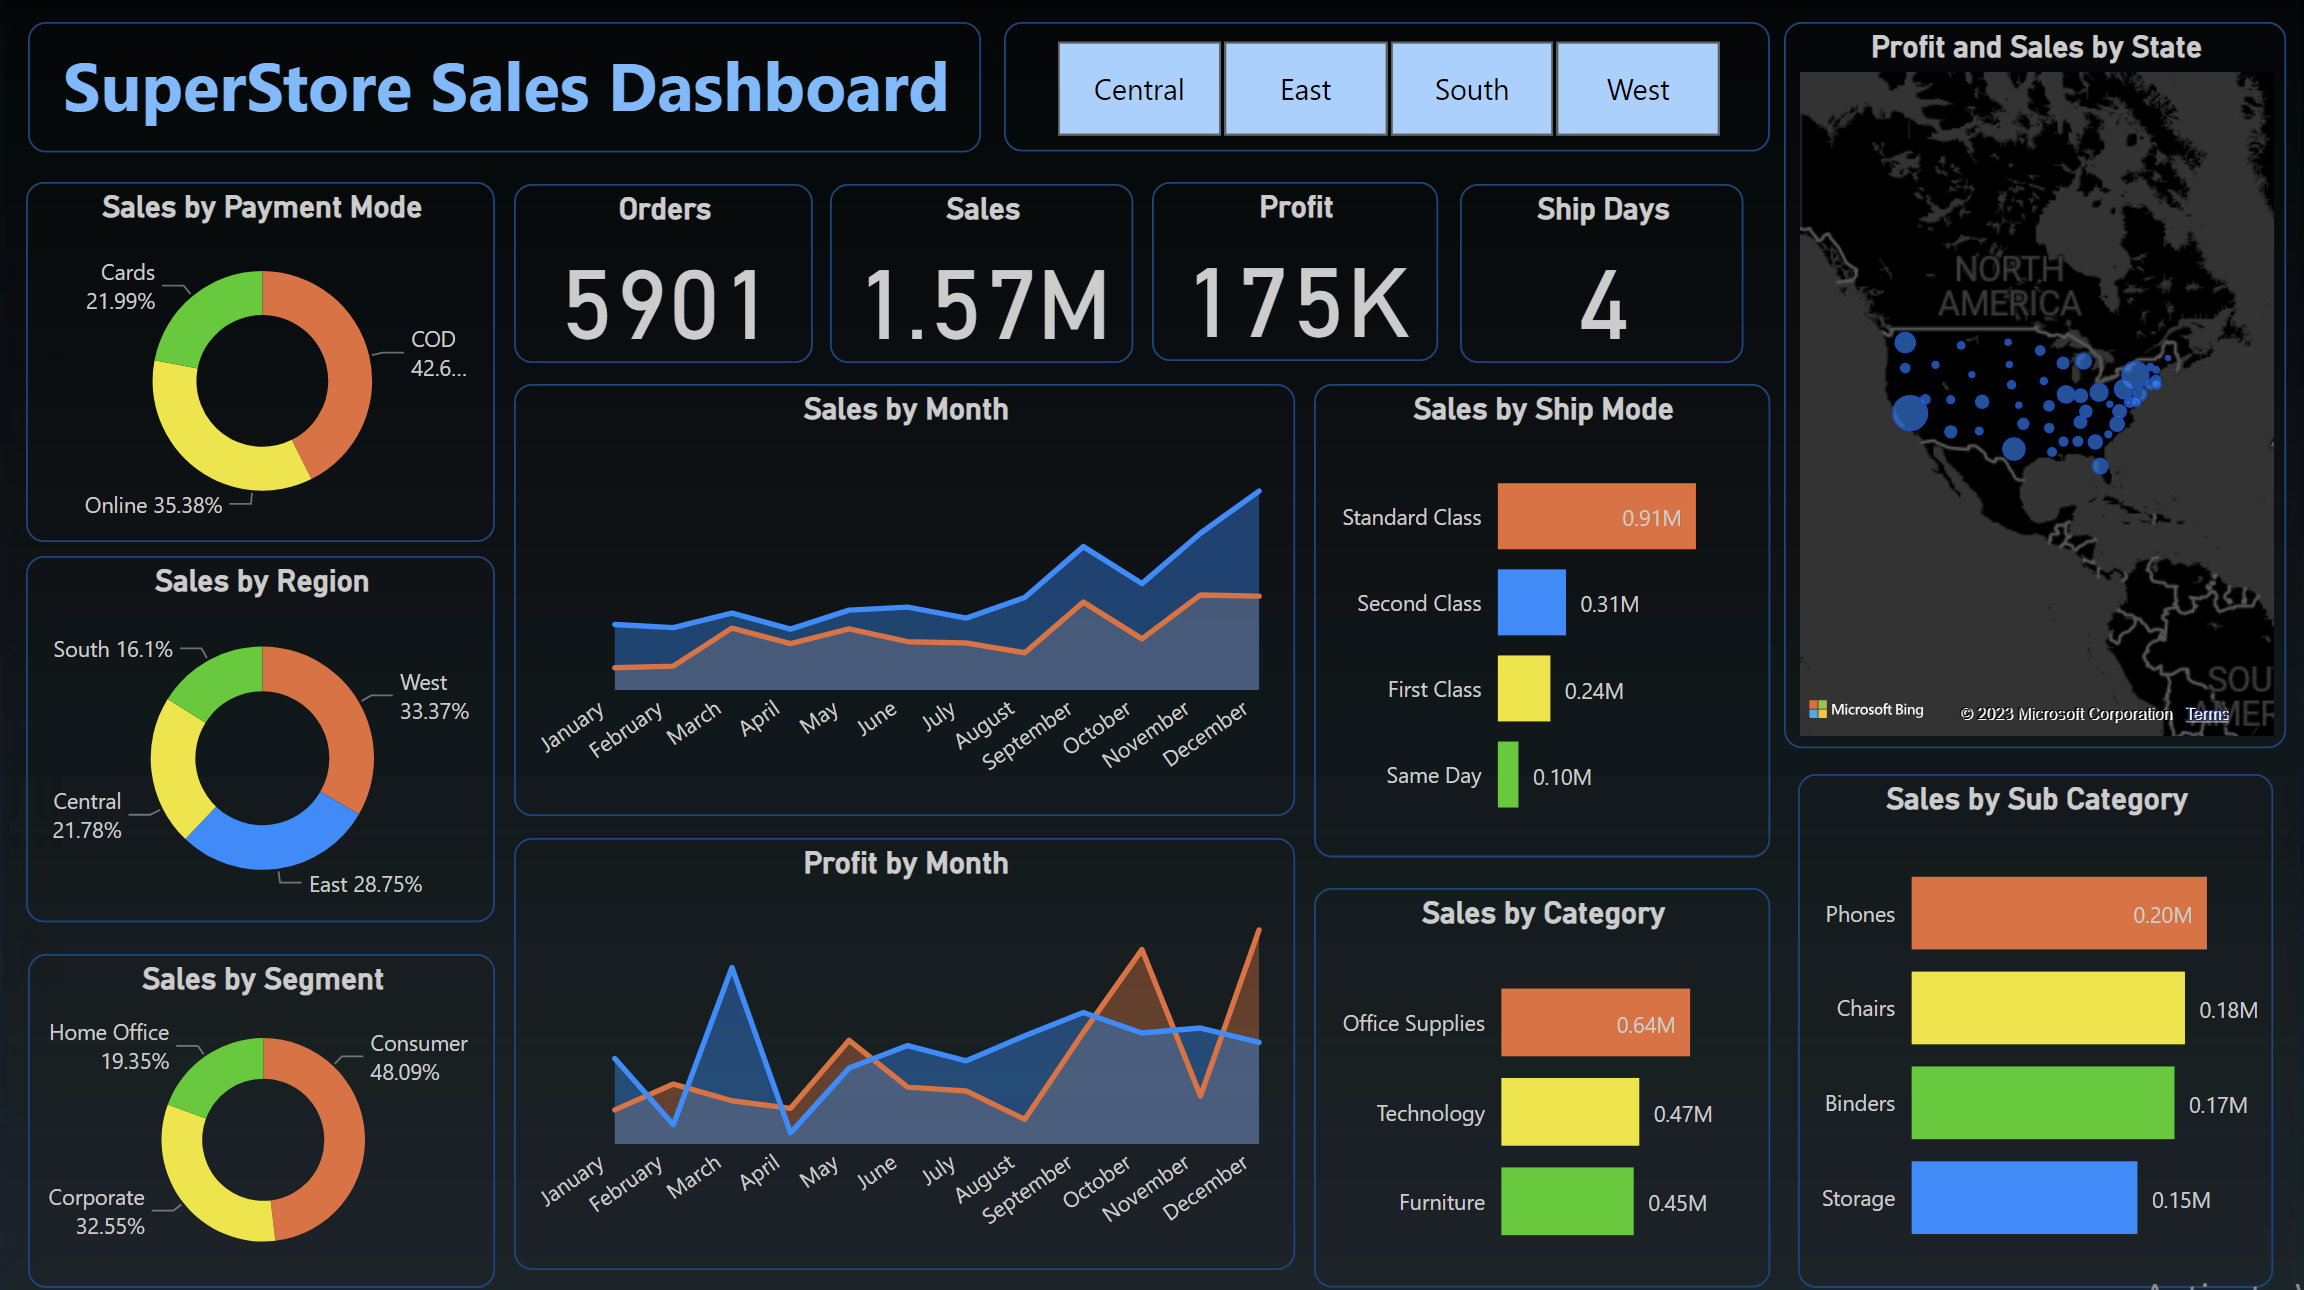

This screenshot's page, from the dashboard's own definition file:
{"tool":"powerbi","page":{"name":"Page 1","canvas":[1280,720],"ordinal":0},"visuals":[{"type":"clusteredBarChart","title":"Sales by Category","fields":{"Category":["SuperStoreData.Category"],"Y":["Sum(SuperStoreData.Sales)"]},"box":[729.7,494.5,253.3,221.8],"z":0},{"type":"clusteredBarChart","title":"Sales by Sub Category","fields":{"Y":["Sum(SuperStoreData.Sales)"],"Category":["SuperStoreData.Sub-Category"]},"box":[998.9,431,263.8,285.4],"z":1},{"type":"clusteredBarChart","title":"Sales by Ship Mode","fields":{"Y":["Sum(SuperStoreData.Sales)"],"Category":["SuperStoreData.Ship Mode"]},"box":[729.7,214.5,253.3,263],"z":2},{"type":"areaChart","title":"Sales by Month ","fields":{"Y":["Sum(SuperStoreData.Sales)"],"Category":["SuperStoreData.Order Date.Variation.Date Hierarchy.Month","SuperStoreData.Order Date.Variation.Date Hierarchy.Day"],"Series":["SuperStoreData.Order Date.Variation.Date Hierarchy.Year"]},"box":[286.1,214.5,433.9,240],"z":3},{"type":"areaChart","title":"Profit by Month ","fields":{"Category":["SuperStoreData.Order Date.Variation.Date Hierarchy.Month","SuperStoreData.Order Date.Variation.Date Hierarchy.Day"],"Series":["SuperStoreData.Order Date.Variation.Date Hierarchy.Year"],"Y":["Sum(SuperStoreData.Profit)"]},"box":[286.1,466.7,433.9,240],"z":4},{"type":"map","title":"Profit and Sales by State","fields":{"Category":["SuperStoreData.State"],"Size":["Sum(SuperStoreData.Sales)"]},"box":[991.5,13.3,278.8,403.6],"z":5},{"type":"donutChart","title":"Sales by Payment Mode","fields":{"Category":["SuperStoreData.Payment Mode"],"Y":["Sum(SuperStoreData.Sales)"]},"box":[14.5,101.8,260.6,200],"z":6},{"type":"donutChart","title":"Sales by Region","fields":{"Y":["Sum(SuperStoreData.Sales)"],"Category":["SuperStoreData.Region"]},"box":[14.5,310.3,260.6,203.6],"z":7},{"type":"donutChart","title":"Sales by Segment","fields":{"Y":["Sum(SuperStoreData.Sales)"],"Category":["SuperStoreData.Segment"]},"box":[15.8,530.9,259.4,185.5],"z":8},{"type":"card","title":"Orders","fields":{"Values":["CountNonNull(SuperStoreData.Order ID)"]},"box":[286.1,103,166.1,99.4],"z":9},{"type":"card","title":"Sales","fields":{"Values":["Sum(SuperStoreData.Sales)"]},"box":[460.6,103,168.5,99.4],"z":10},{"type":"card","title":"Profit","fields":{"Values":["Sum(SuperStoreData.Profit)"]},"box":[640,101.8,158.8,99.4],"z":11},{"type":"card","title":"Ship Days","fields":{"Values":["Avg(SuperStoreData.AvgDelivery)"]},"box":[810.9,103,157.6,99.4],"z":12},{"type":"textbox","box":[15.8,13.3,529.7,72.7],"z":13},{"type":"slicer","fields":{"Values":["SuperStoreData.Region"]},"box":[557.6,13.3,425.5,72.7],"z":14}]}

Visuals, with their boxes in screenshot pixels (x1, y1, x2, y2), scaled from the page's 1280x720 canvas onto the 2304x1290 screenshot:
"Sales by Category" clusteredBarChart: box(1313, 886, 1769, 1283)
"Sales by Sub Category" clusteredBarChart: box(1798, 772, 2273, 1284)
"Sales by Ship Mode" clusteredBarChart: box(1313, 384, 1769, 856)
"Sales by Month " areaChart: box(515, 384, 1296, 814)
"Profit by Month " areaChart: box(515, 836, 1296, 1266)
"Profit and Sales by State" map: box(1785, 24, 2287, 747)
"Sales by Payment Mode" donutChart: box(26, 182, 495, 541)
"Sales by Region" donutChart: box(26, 556, 495, 921)
"Sales by Segment" donutChart: box(28, 951, 495, 1284)
"Orders" card: box(515, 185, 814, 363)
"Sales" card: box(829, 185, 1132, 363)
"Profit" card: box(1152, 182, 1438, 360)
"Ship Days" card: box(1460, 185, 1743, 363)
textbox: box(28, 24, 982, 154)
slicer - SuperStoreData.Region: box(1004, 24, 1770, 154)
